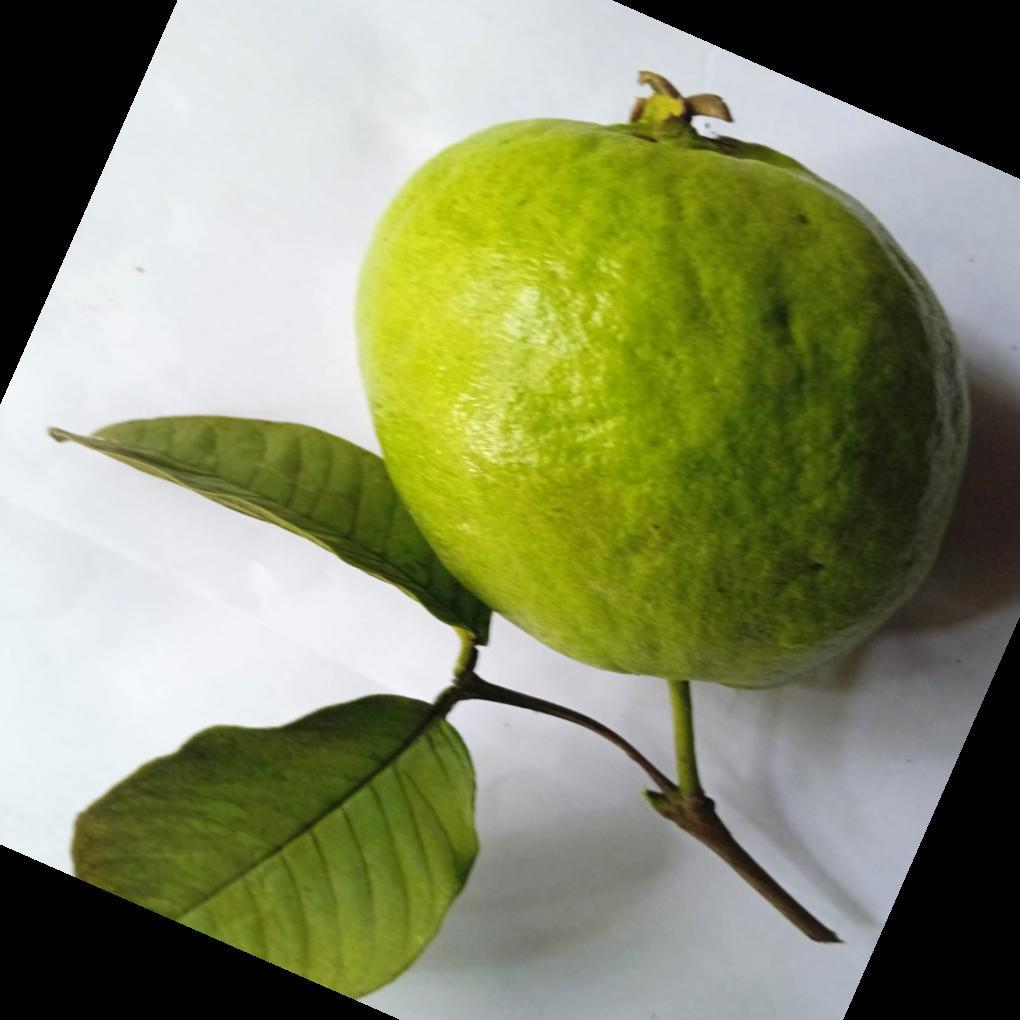FreshGuava: (350, 75, 973, 804)
